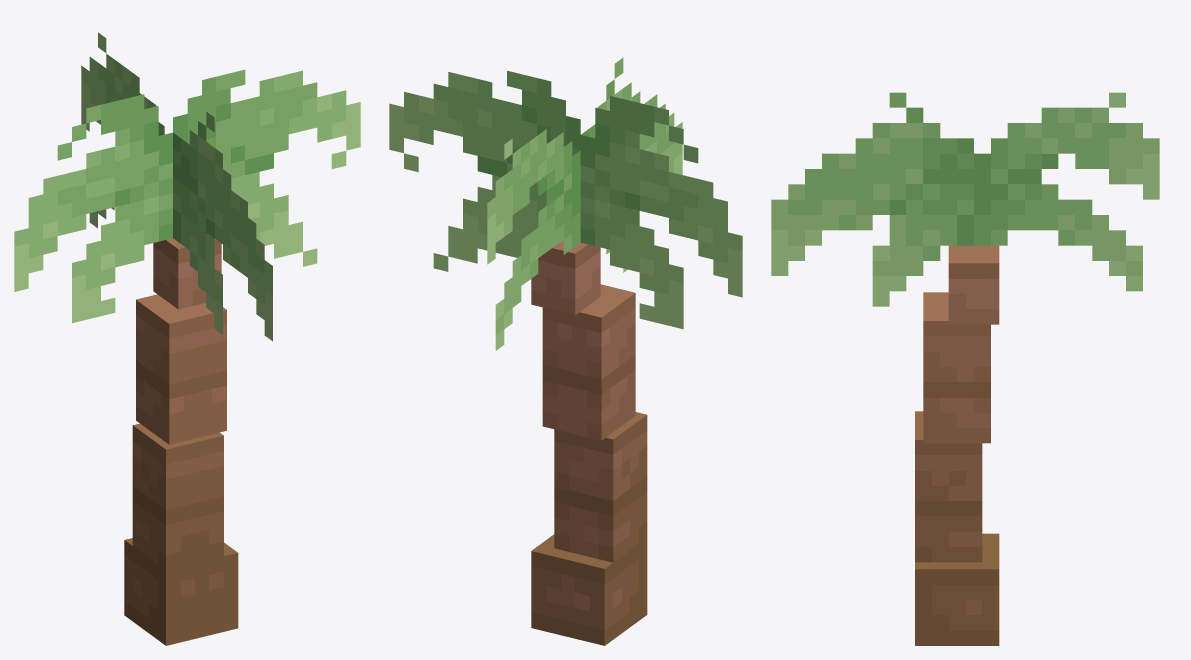
The model's file is PalmTreeStage3.fbx.
3 renders of one model, left to right at view 1: azimuth 30°, elevation 25°; view 2: azimuth 150°, elevation 25°; view 3: azimuth 270°, elevation 25°, orthographic.
Parts seen in each view (by area): view 1: crown, trunk, trunk2; view 2: crown, trunk, trunk2; view 3: crown, trunk, trunk2.
Boxes of the visible parts, x1,y1,x2,y2 form: crown: [14, 32, 360, 341]; trunk: [124, 423, 238, 645]; trunk2: [136, 238, 226, 444]; crown: [389, 58, 742, 350]; trunk: [531, 412, 647, 645]; trunk2: [531, 240, 635, 440]; crown: [771, 92, 1159, 306]; trunk: [915, 411, 999, 645]; trunk2: [923, 245, 999, 443].
Size of the model in its own units: 75 by 109 by 75.
1 material, 1 textured.
